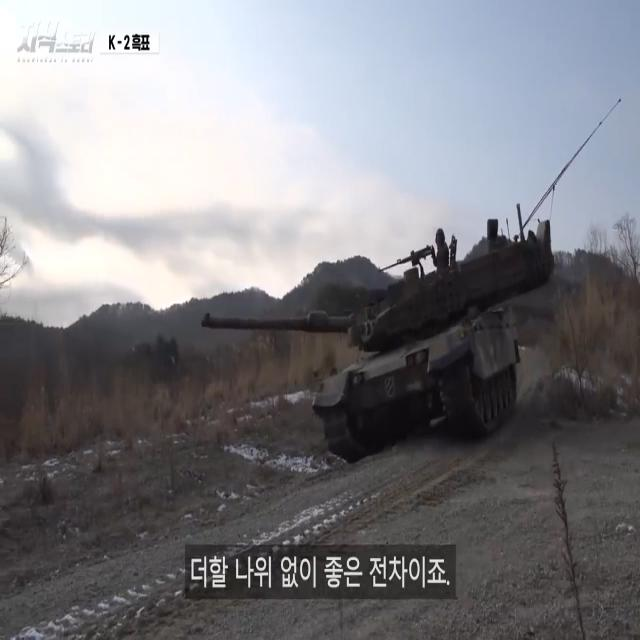korea tank: (199, 198, 557, 465)
